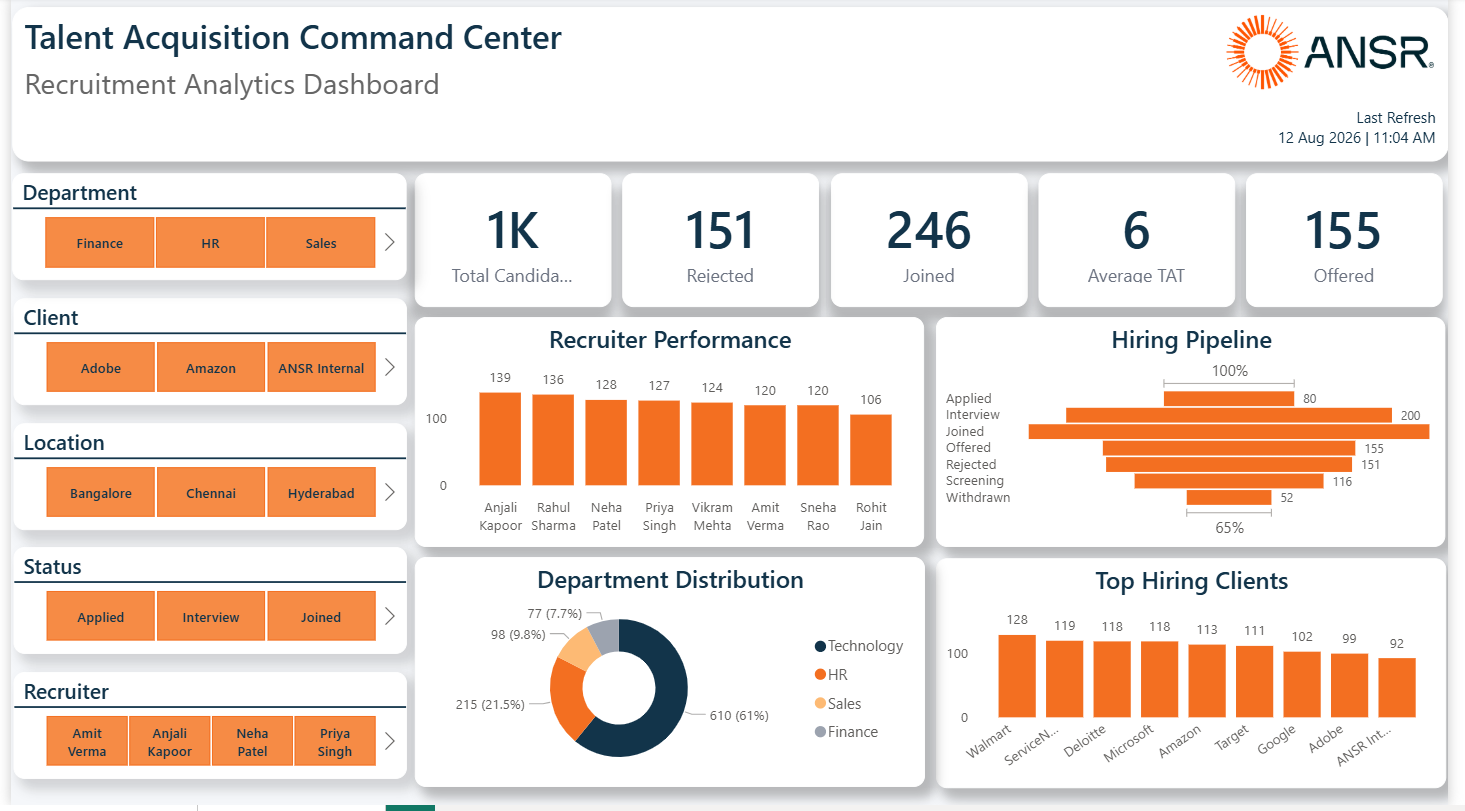

This screenshot's page, from the dashboard's own definition file:
{"tool":"powerbi","page":{"name":"Recruitment Overview","canvas":[1280,720],"ordinal":0},"visuals":[{"type":"textbox","title":"Talent Acquisition Command Center","box":[1.2,8.4,1278.8,137.5],"z":0},{"type":"image","box":[1069.7,8.9,210,80.1],"z":1000},{"type":"cardVisual","fields":{"Data":["recruitment_data.Total Candidates"]},"box":[359.5,156.8,175,119.4],"z":2000},{"type":"cardVisual","fields":{"Data":["recruitment_data.Joined"]},"box":[729.8,156.8,175,119.2],"z":3000},{"type":"cardVisual","fields":{"Data":["recruitment_data.Rejected"]},"box":[544.6,156.8,175,119.2],"z":4000},{"type":"cardVisual","fields":{"Data":["recruitment_data.Average TAT"]},"box":[914.9,156.8,175,119.2],"z":5000},{"type":"cardVisual","fields":{"Data":["recruitment_data.Offered"]},"box":[1100,156.8,175,119.2],"z":6000},{"type":"slicer","title":"Client","fields":{"Values":["recruitment_data.Client"]},"box":[1.8,268.1,350,95],"z":7000},{"type":"slicer","title":"Department","fields":{"Values":["recruitment_data.Department"]},"box":[1.2,156.8,351.1,95.3],"z":8000},{"type":"slicer","title":"Location","fields":{"Values":["recruitment_data.Location"]},"box":[1.8,379.1,350,95],"z":9000},{"type":"slicer","title":"Status","fields":{"Values":["recruitment_data.Status"]},"box":[1.8,490,350,95],"z":10000},{"type":"slicer","title":"Recruiter","fields":{"Values":["recruitment_data.Recruiter"]},"box":[1.8,601,350,95],"z":11000},{"type":"clusteredColumnChart","title":"Recruiter Performance","fields":{"Category":["recruitment_data.Recruiter"],"Y":["CountNonNull(recruitment_data.Candidate_ID)"]},"box":[359.5,284.7,453.6,205.1],"z":12000},{"type":"funnel","title":"Hiring Pipeline","fields":{"Category":["recruitment_data.Status"],"Y":["CountNonNull(recruitment_data.Candidate_ID)"]},"box":[824,284.7,453.6,205.1],"z":13000},{"type":"clusteredColumnChart","title":"Top Hiring Clients","fields":{"Y":["CountNonNull(recruitment_data.Candidate_ID)"],"Category":["recruitment_data.Client"]},"box":[823.8,499.3,454,204.9],"z":14000},{"type":"donutChart","title":"Department Distribution","fields":{"Category":["recruitment_data.Department"],"Y":["CountNonNull(recruitment_data.Candidate_ID)"]},"box":[359.2,499.2,454,205],"z":15000}]}

Visuals, with their boxes in screenshot pixels (x1, y1, x2, y2), scaled from the page's 1280x720 canvas onto the 1465x811 screenshot:
"Talent Acquisition Command Center" textbox: locate(1, 9, 1464, 164)
image: locate(1224, 10, 1464, 100)
cardVisual - recruitment_data.Total Candidates: locate(411, 177, 612, 311)
cardVisual - recruitment_data.Joined: locate(835, 177, 1036, 311)
cardVisual - recruitment_data.Rejected: locate(623, 177, 824, 311)
cardVisual - recruitment_data.Average TAT: locate(1047, 177, 1247, 311)
cardVisual - recruitment_data.Offered: locate(1259, 177, 1459, 311)
"Client" slicer: locate(2, 302, 403, 409)
"Department" slicer: locate(1, 177, 403, 284)
"Location" slicer: locate(2, 427, 403, 534)
"Status" slicer: locate(2, 552, 403, 659)
"Recruiter" slicer: locate(2, 677, 403, 784)
"Recruiter Performance" clusteredColumnChart: locate(411, 321, 931, 552)
"Hiring Pipeline" funnel: locate(943, 321, 1462, 552)
"Top Hiring Clients" clusteredColumnChart: locate(943, 562, 1462, 793)
"Department Distribution" donutChart: locate(411, 562, 931, 793)
